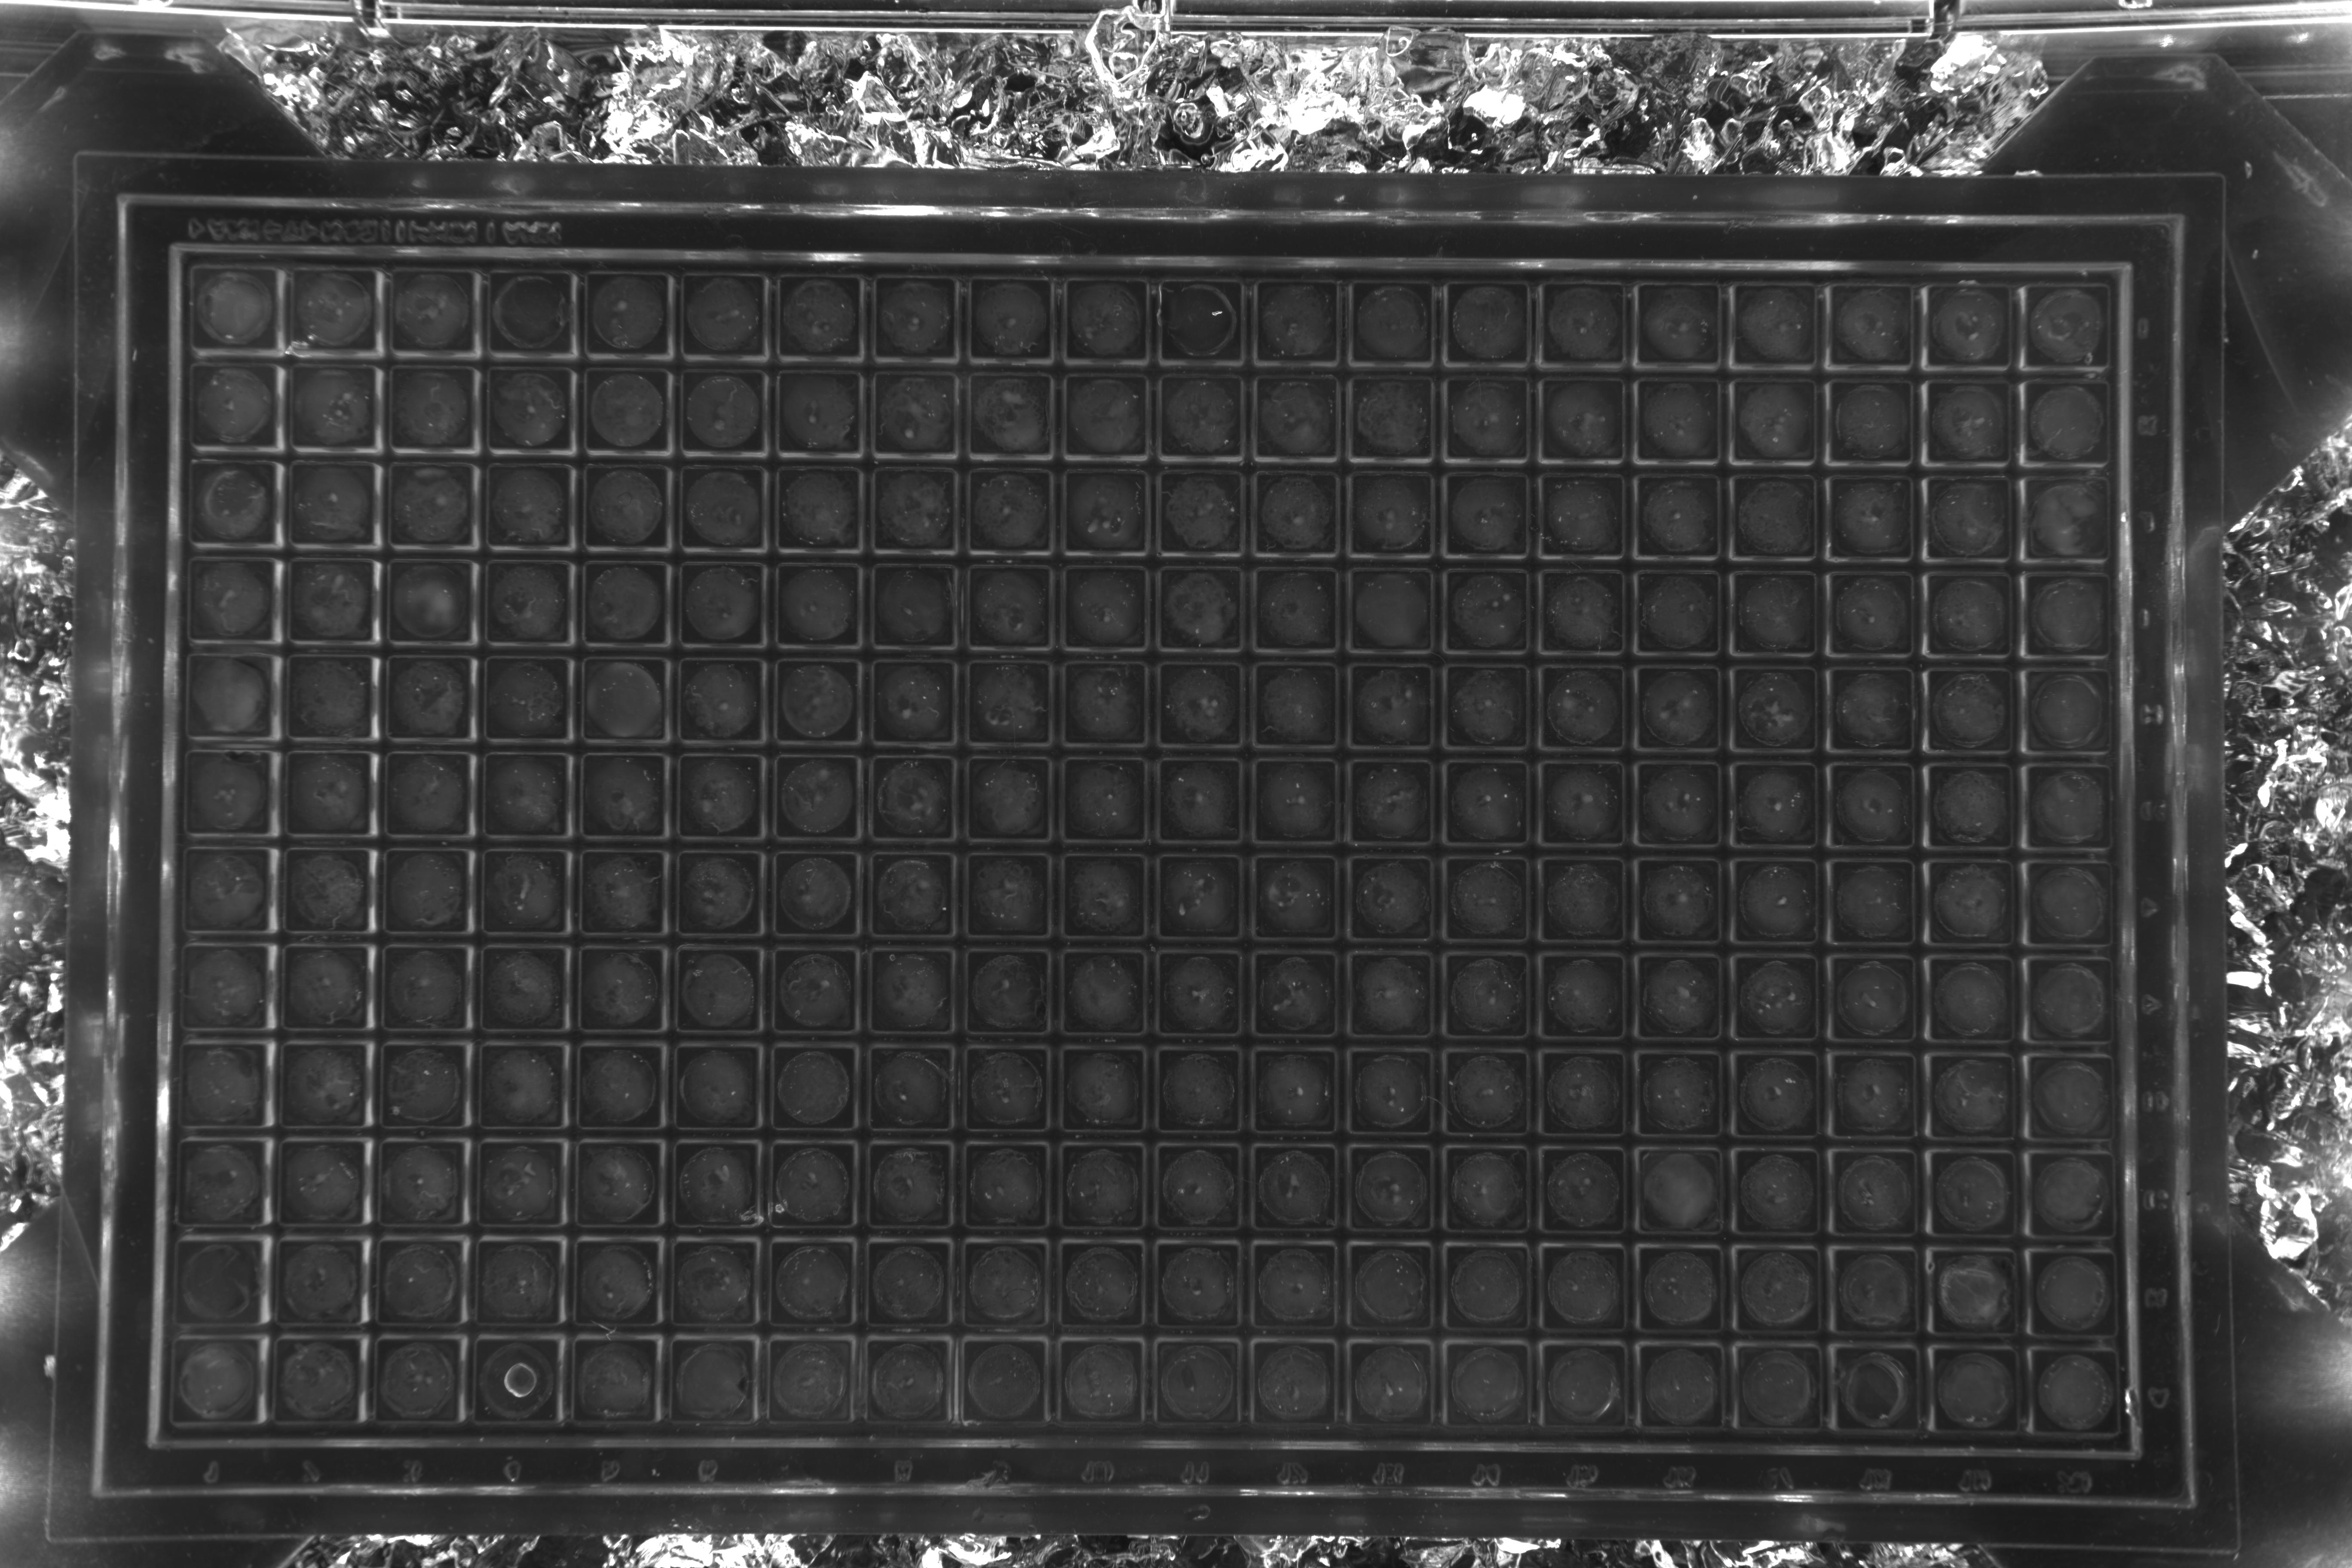WM_well: (2063, 1351, 2152, 1440), (493, 945, 583, 1032), (497, 266, 586, 353), (689, 947, 779, 1034), (789, 462, 878, 549), (885, 850, 975, 938), (982, 947, 1071, 1034), (198, 1043, 285, 1130), (289, 1342, 376, 1430), (390, 1242, 478, 1330), (693, 364, 780, 451), (782, 1339, 870, 1426), (983, 656, 1071, 744), (983, 850, 1071, 938), (1080, 464, 1167, 551), (1176, 269, 1263, 357), (1176, 464, 1263, 551), (1465, 269, 1552, 357), (1468, 1046, 1556, 1134), (1563, 464, 1650, 551), (1568, 1344, 1655, 1431), (1956, 366, 2044, 453), (1962, 954, 2049, 1041), (2056, 560, 2144, 647), (2058, 658, 2145, 745)
